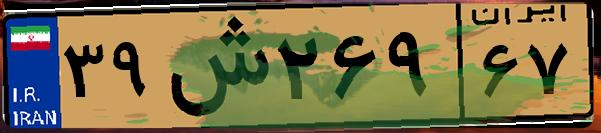2: (270, 28, 330, 110)
3: (57, 26, 110, 100)
6: (330, 28, 385, 110), (475, 38, 525, 113)
7: (525, 38, 570, 115)
9: (385, 28, 445, 110), (110, 28, 158, 98)
ش: (158, 12, 270, 120)
